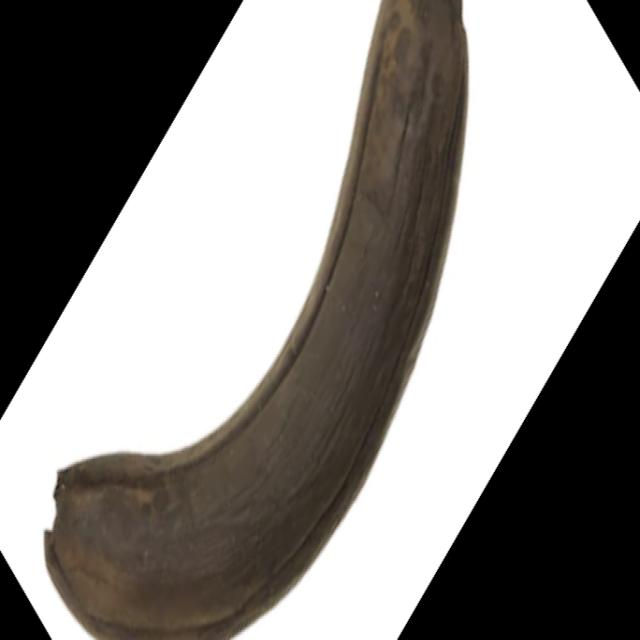Rotten: (45, 0, 469, 640)
